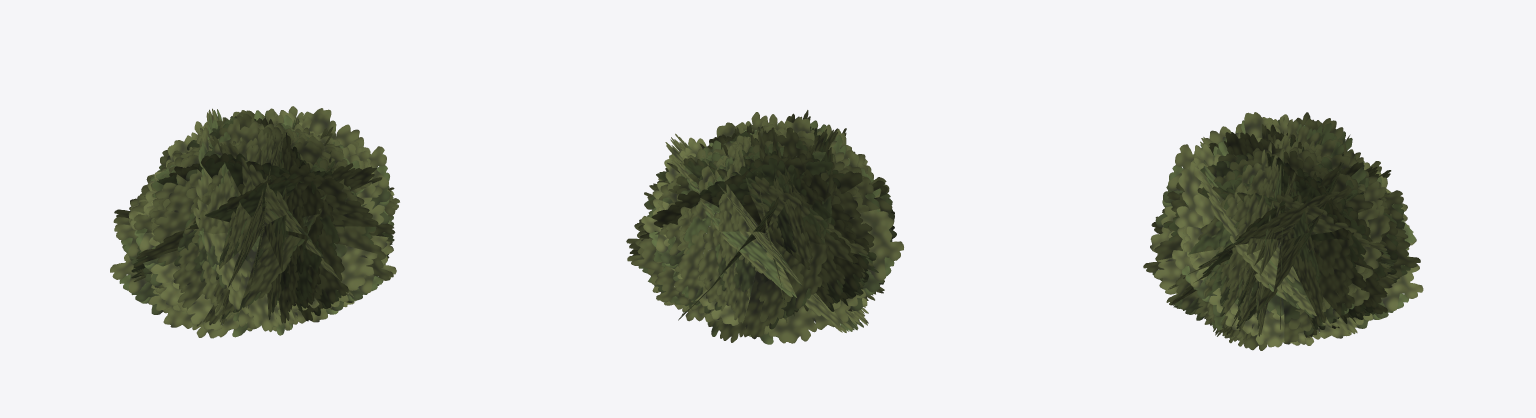
The model's file is Bush1.fbx.
3 views of the same model, side by side, from view 1: azimuth 30°, elevation 25°; view 2: azimuth 150°, elevation 25°; view 3: azimuth 270°, elevation 25° (orthographic). The views are drawn at different scales.
Visible parts, largest first — view 1: Bush1; view 2: Bush1; view 3: Bush1.
Boxes of the visible parts, x1=… form: Bush1: x1=110, y1=106, x2=399, y2=338; Bush1: x1=626, y1=110, x2=903, y2=344; Bush1: x1=1143, y1=112, x2=1423, y2=350.
Size of the model in its own units: 1091 by 989 by 1196.
